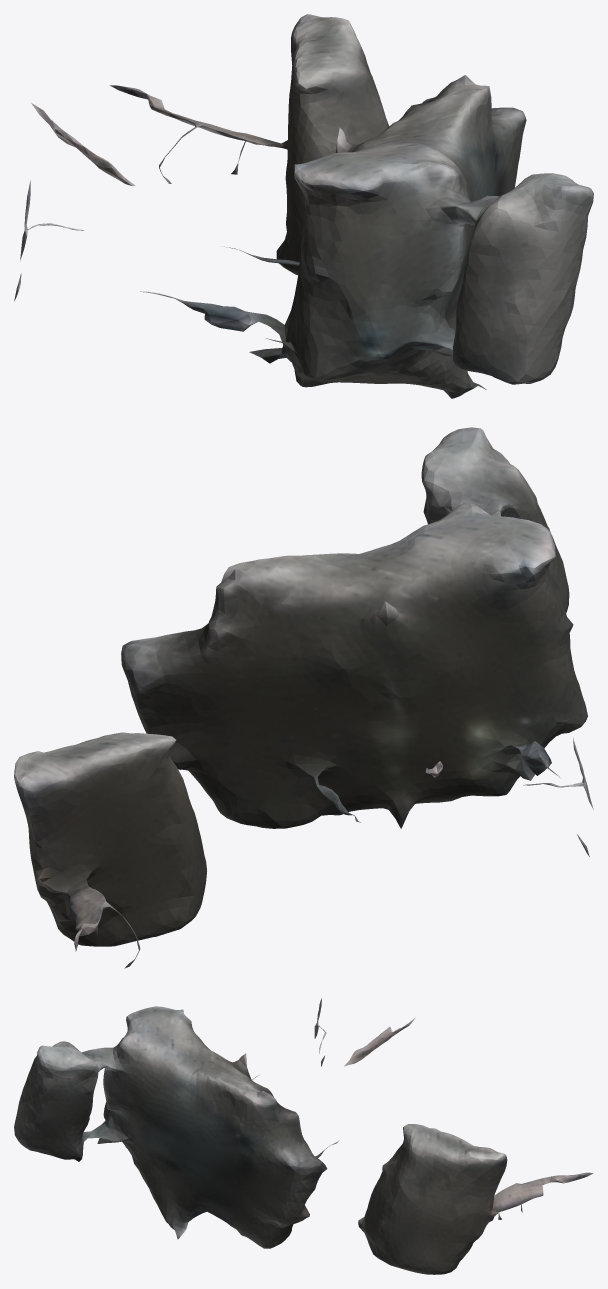
File: IMG_SEG_07.glb
The picture shows the model from 3 angles, top to bottom: view 1: azimuth 30°, elevation 25°; view 2: azimuth 150°, elevation 25°; view 3: azimuth 270°, elevation 25°; orthographic projection. The views are drawn at different scales.
Size of the model in its own units: 0.5368 by 0.3269 by 0.8594.
1 material, 1 textured.
